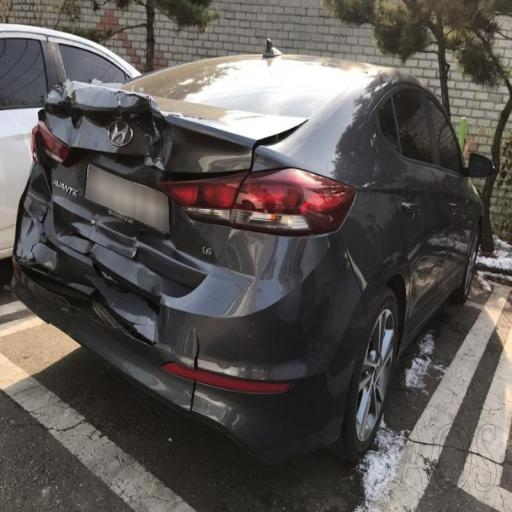dent: (6, 70, 246, 379)
